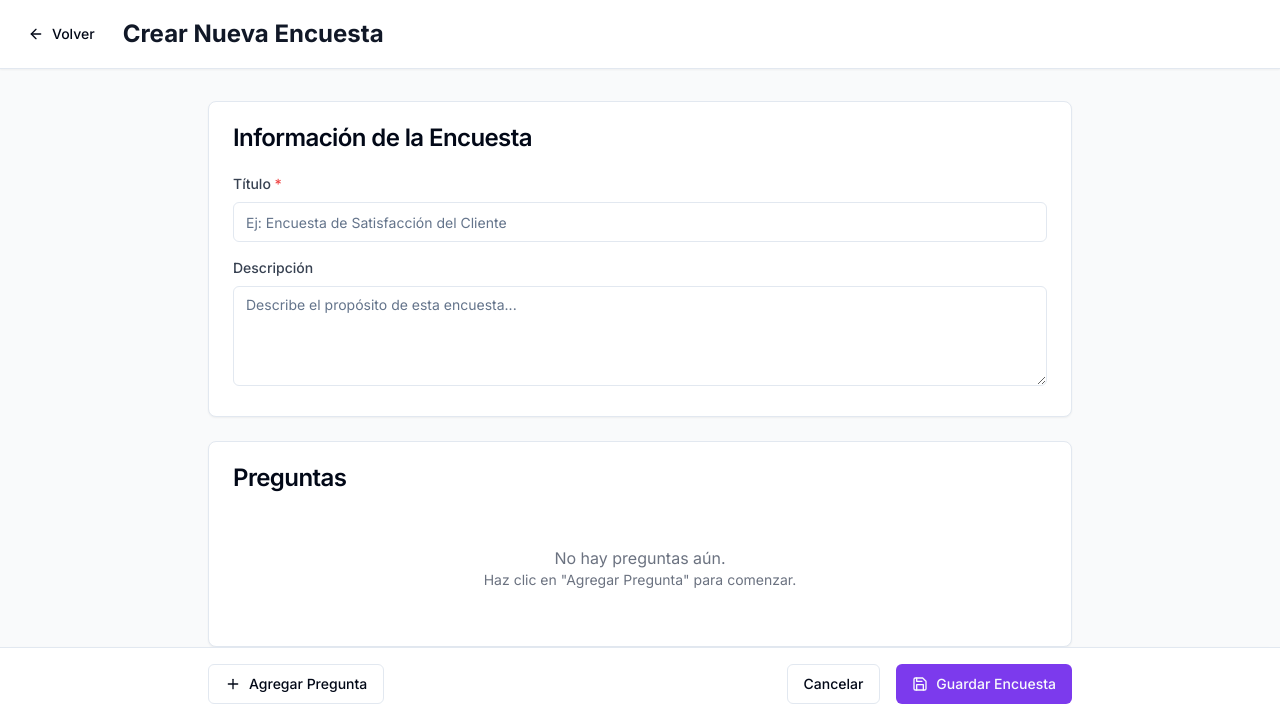
NewSurveyPage › adds new question
The image size is (1280, 720).
Step 1. Click the button "Agregar Pregunta" → (296, 684), box [208,664,384,704]
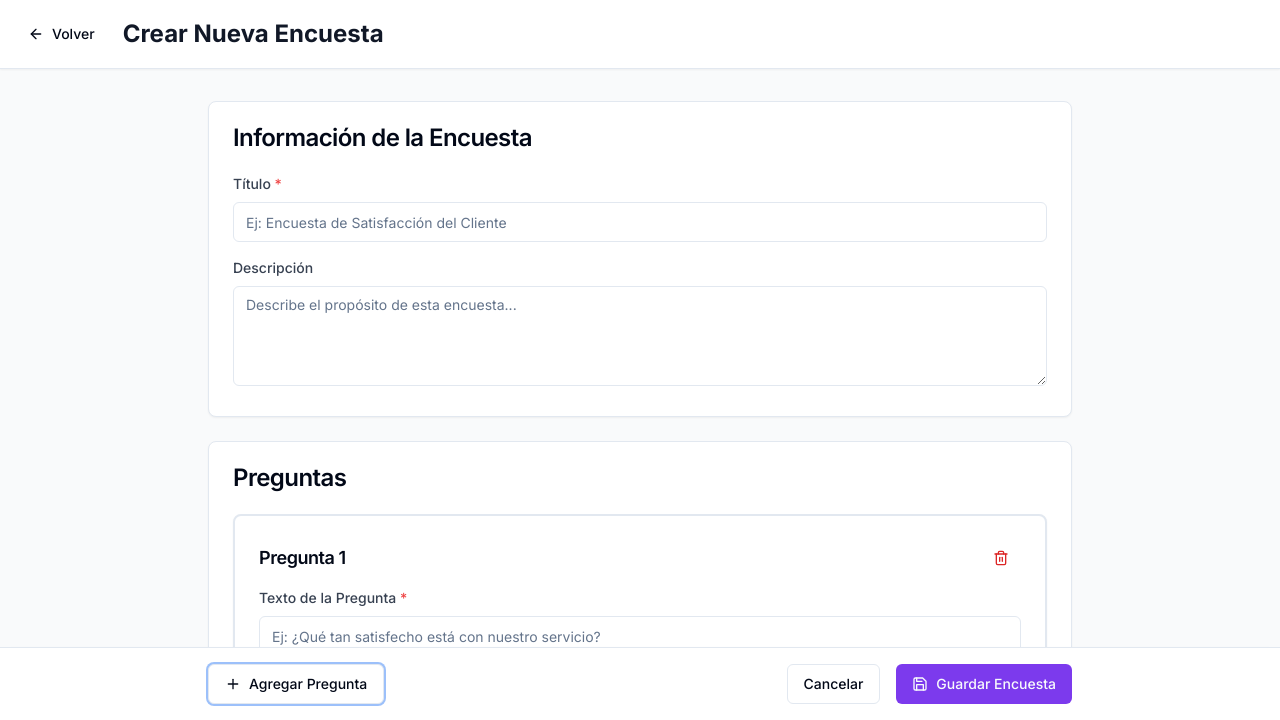
Expected: the heading "Pregunta 1" is shown, [259,544,346,572]
